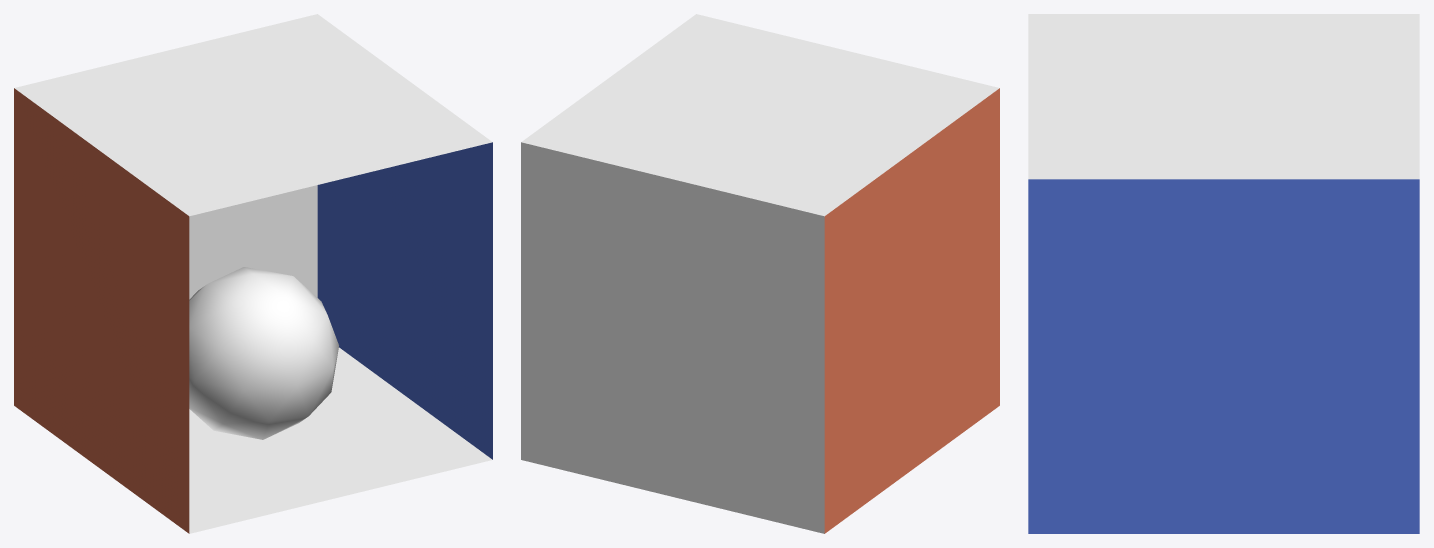
Rendered from practice7_4.gltf.
3 views of the same model, side by side, from view 1: azimuth 30°, elevation 25°; view 2: azimuth 150°, elevation 25°; view 3: azimuth 270°, elevation 25° (orthographic). The views are drawn at different scales.
Parts seen in each view (by area): view 1: Plane.003, Plane.001, Plane.004, Plane, Icosphere, Plane.002; view 2: Plane.002, Plane.003, Plane.001; view 3: Plane.004, Plane.001.
Boxes of the visible parts, left/top/right/bottom form: Plane.003: left=14, top=88, right=189, bottom=533; Plane.001: left=14, top=14, right=492, bottom=216; Plane.004: left=317, top=142, right=492, bottom=459; Plane: left=189, top=347, right=492, bottom=533; Icosphere: left=189, top=267, right=338, bottom=439; Plane.002: left=189, top=185, right=317, bottom=299; Plane.002: left=521, top=142, right=824, bottom=533; Plane.003: left=824, top=88, right=999, bottom=533; Plane.001: left=521, top=14, right=999, bottom=216; Plane.004: left=1028, top=179, right=1419, bottom=533; Plane.001: left=1028, top=14, right=1419, bottom=179.
Size of the model in its own units: 4 by 4 by 4.
